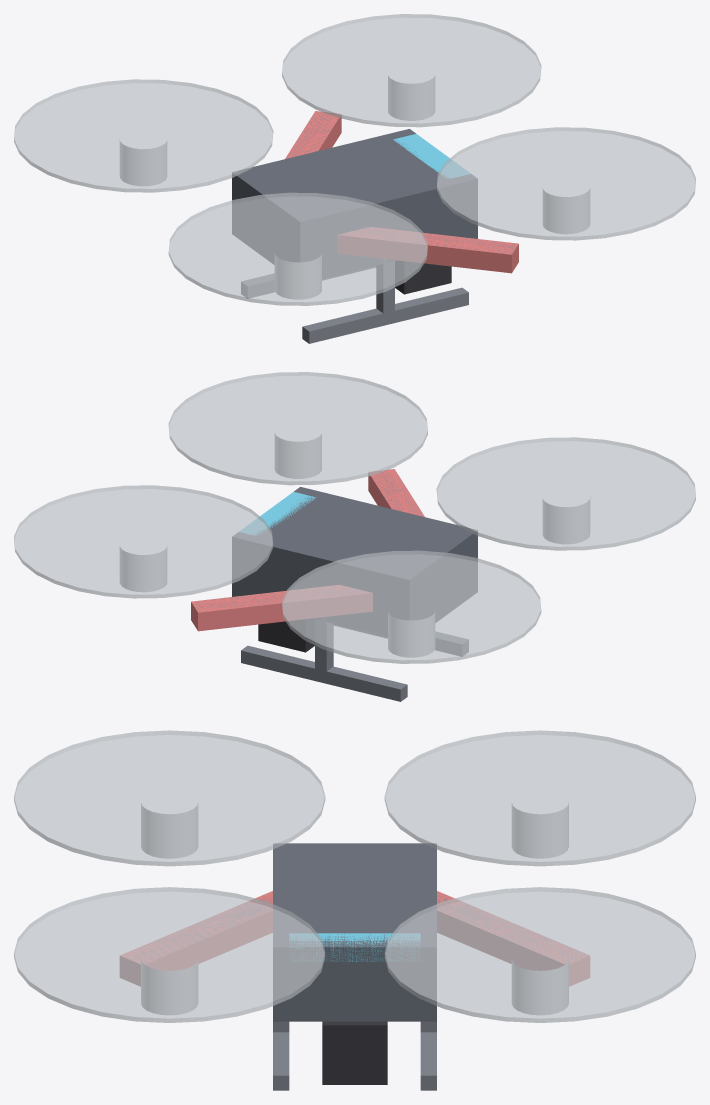
Rendered from quadcopter.glb.
3 views of the same model, one above another, from view 1: azimuth 30°, elevation 25°; view 2: azimuth 150°, elevation 25°; view 3: azimuth 270°, elevation 25° (orthographic). The views are drawn at different scales.
Visible parts, largest first — view 1: quadcopter; view 2: quadcopter; view 3: quadcopter.
Part boxes in pixels (<box>): quadcopter: <box>14,14,695,343</box>; quadcopter: <box>14,372,695,701</box>; quadcopter: <box>14,730,695,1090</box>.
Size of the model in its own units: 0.8325 by 0.228 by 0.8325.
